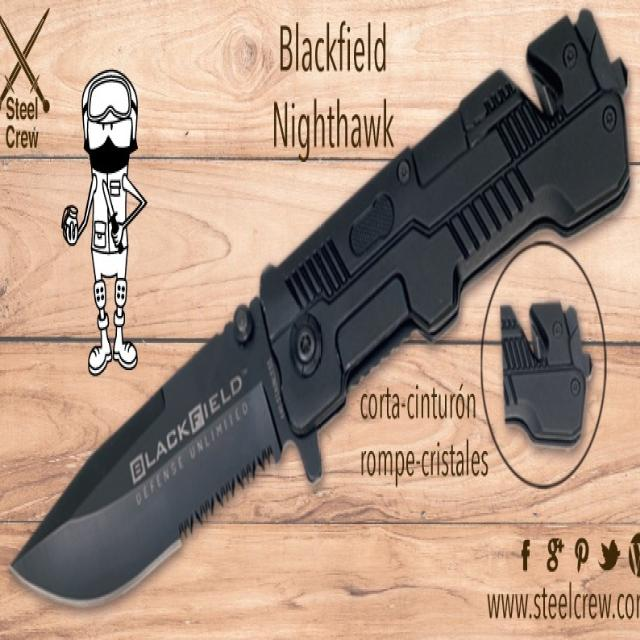knife: (7, 1, 638, 620)
